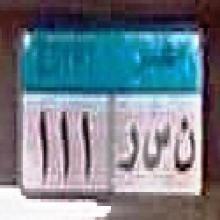1: (36, 111, 50, 177), (81, 109, 93, 180), (60, 109, 69, 183)
noon: (174, 116, 198, 173)
raa: (117, 118, 139, 172)
seen: (143, 123, 171, 171)
